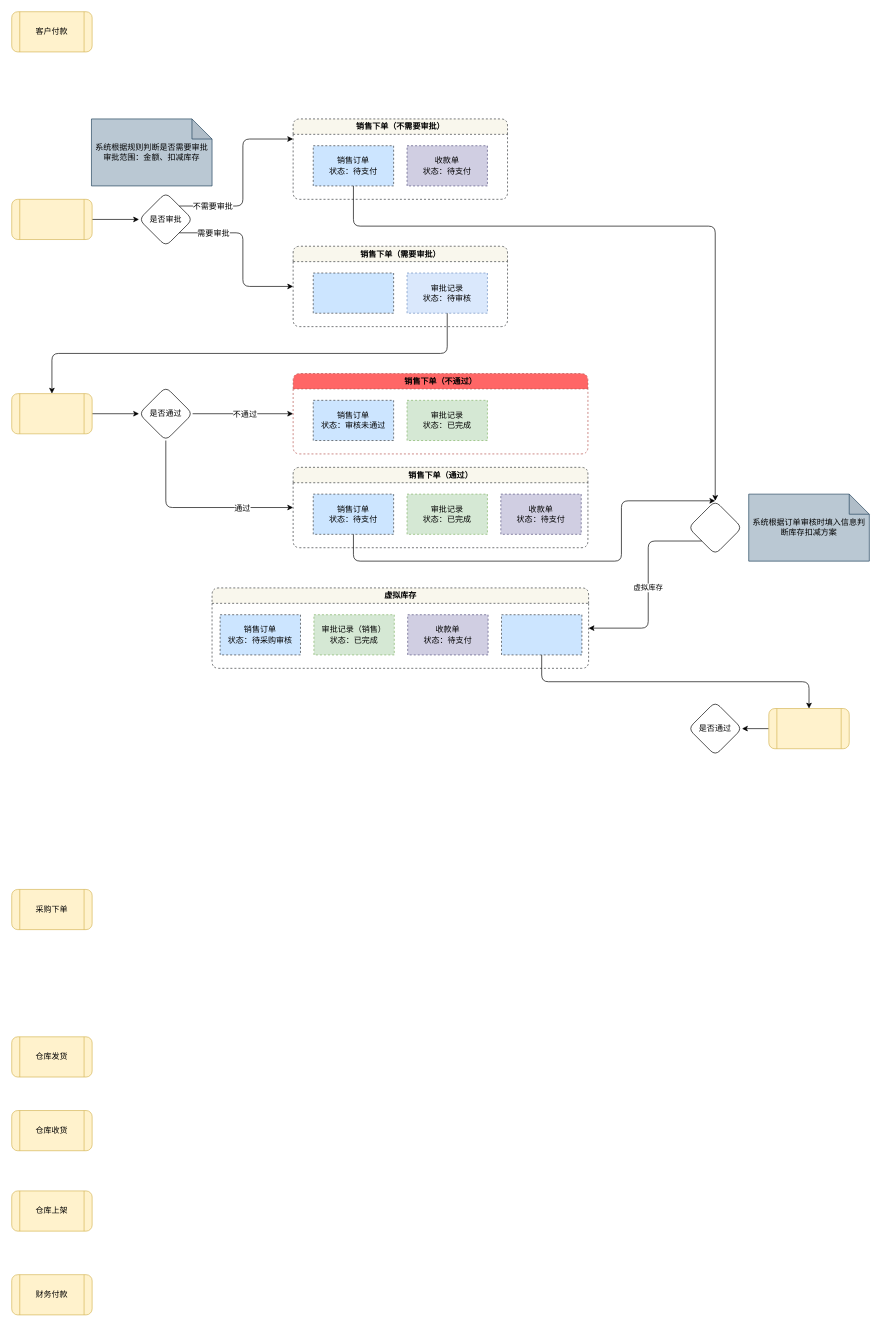
This 881x1327 diagram has some shape labels left out. The centre of each missing label's shape, as x and y in pixels:
"库存？" belongs at pixel 715 527.
"采购单 状态：待审核" belongs at pixel 541 634.
"采购审核" belongs at pixel 808 728.
"销售下单" belongs at pixel 51 219.
"销售审核" belongs at pixel 51 413.
"销售订单 状态：待审核" belongs at pixel 353 292.
